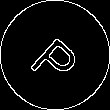P_NE: (24, 24, 86, 86)
